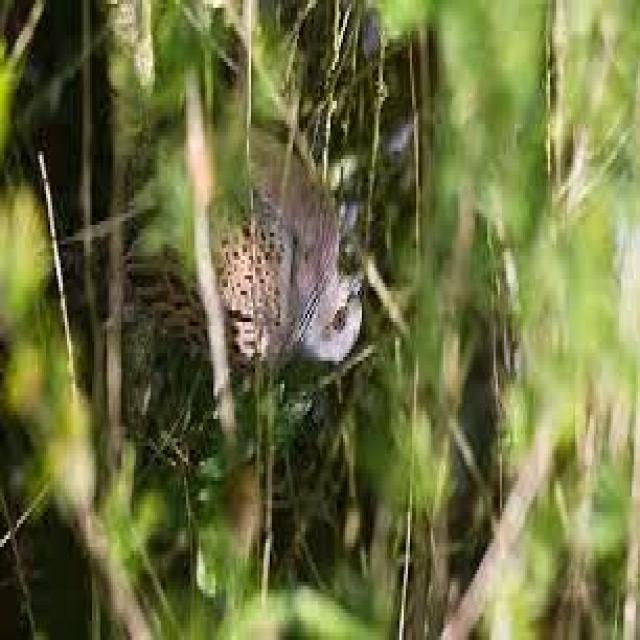pigeon: (106, 110, 378, 399)
